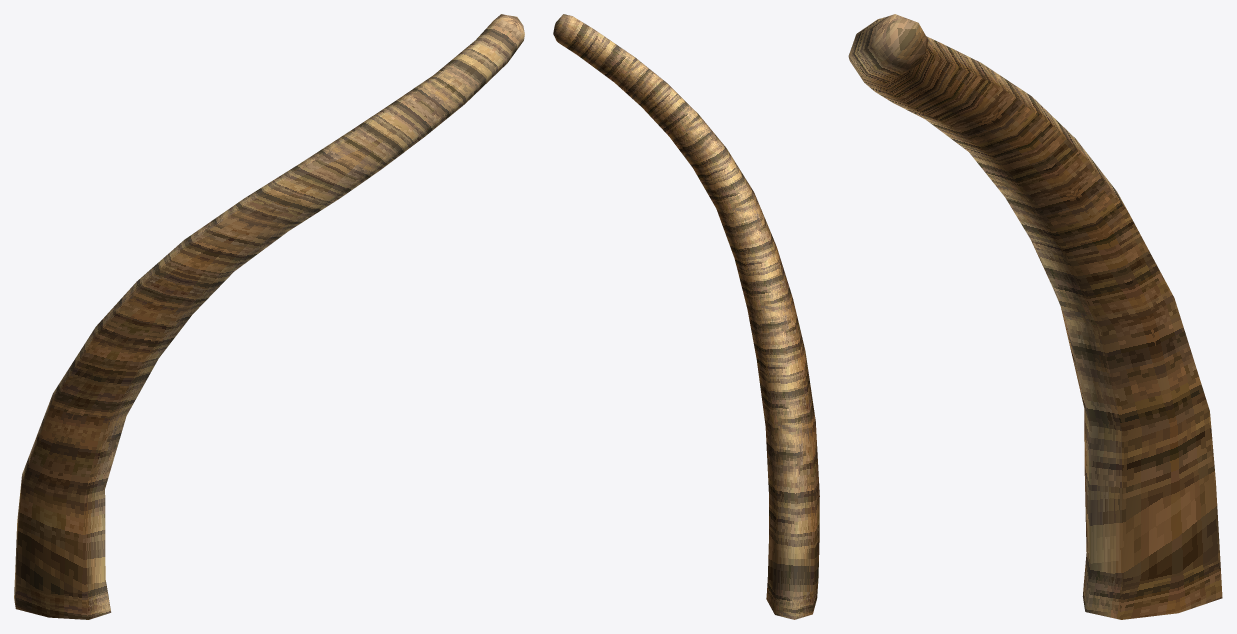
File: treeb.fbx
The picture shows the model from 3 angles, left to right: view 1: azimuth 30°, elevation 25°; view 2: azimuth 150°, elevation 25°; view 3: azimuth 270°, elevation 25°; orthographic projection. The views are drawn at different scales.
Visible parts, largest first — view 1: mesh-9.001; view 2: mesh-9.001; view 3: mesh-9.001.
Part boxes in pixels (x1,y1,x2,y2): mesh-9.001: (14, 14, 524, 619); mesh-9.001: (553, 14, 819, 619); mesh-9.001: (848, 14, 1222, 619).
Size of the model in its own units: 2088 by 2744 by 1100.
